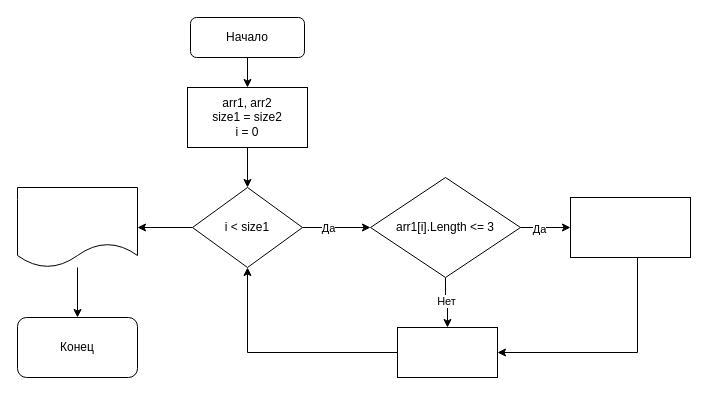
This 708x395 diagram has some shape labels left out. Here are the shapes that lost their labels. From the top down, the centre of each, then its label:
At (77,227): "print arr2".
At (630,227): "arr2[i] = arr1[i]".
At (447,352): "i = i+1".
